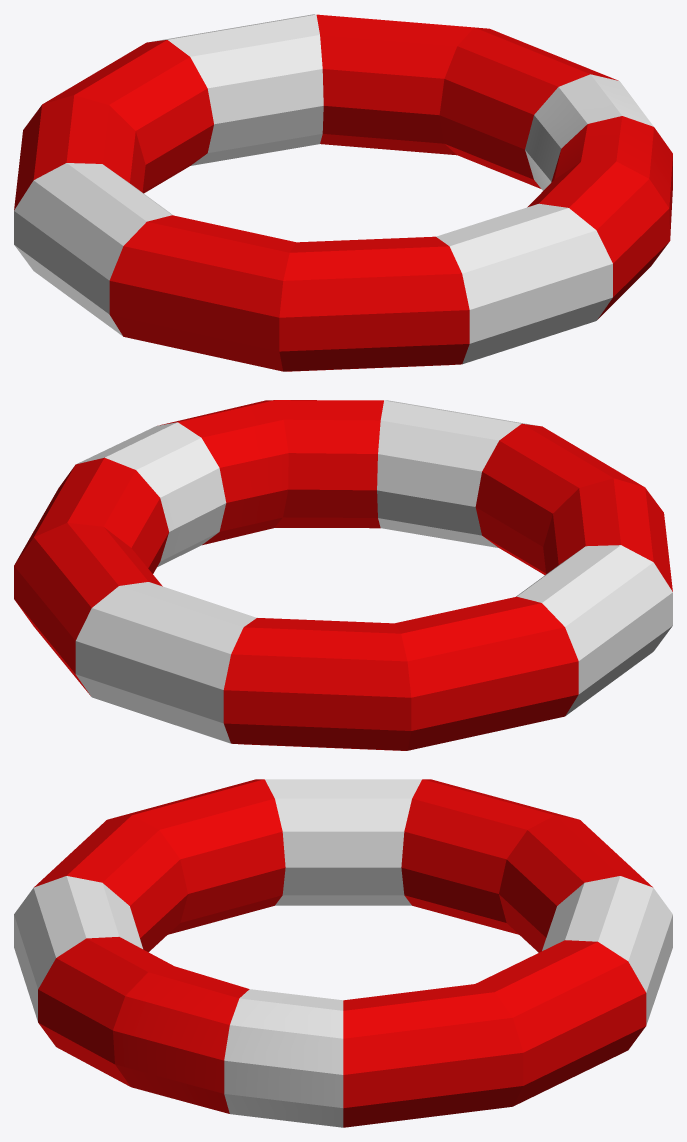
The model's file is Life_ring.fbx.
The picture shows the model from 3 angles, top to bottom: view 1: azimuth 30°, elevation 25°; view 2: azimuth 150°, elevation 25°; view 3: azimuth 270°, elevation 25°; orthographic projection.
Parts seen in each view (by area): view 1: life_ring; view 2: life_ring; view 3: life_ring.
Part boxes in pixels (bbox=[...]): life_ring: bbox=[14, 14, 672, 371]; life_ring: bbox=[14, 400, 672, 750]; life_ring: bbox=[14, 779, 672, 1127].
Bounding box in the file's own units: 2.8 × 0.5726 × 2.83.
